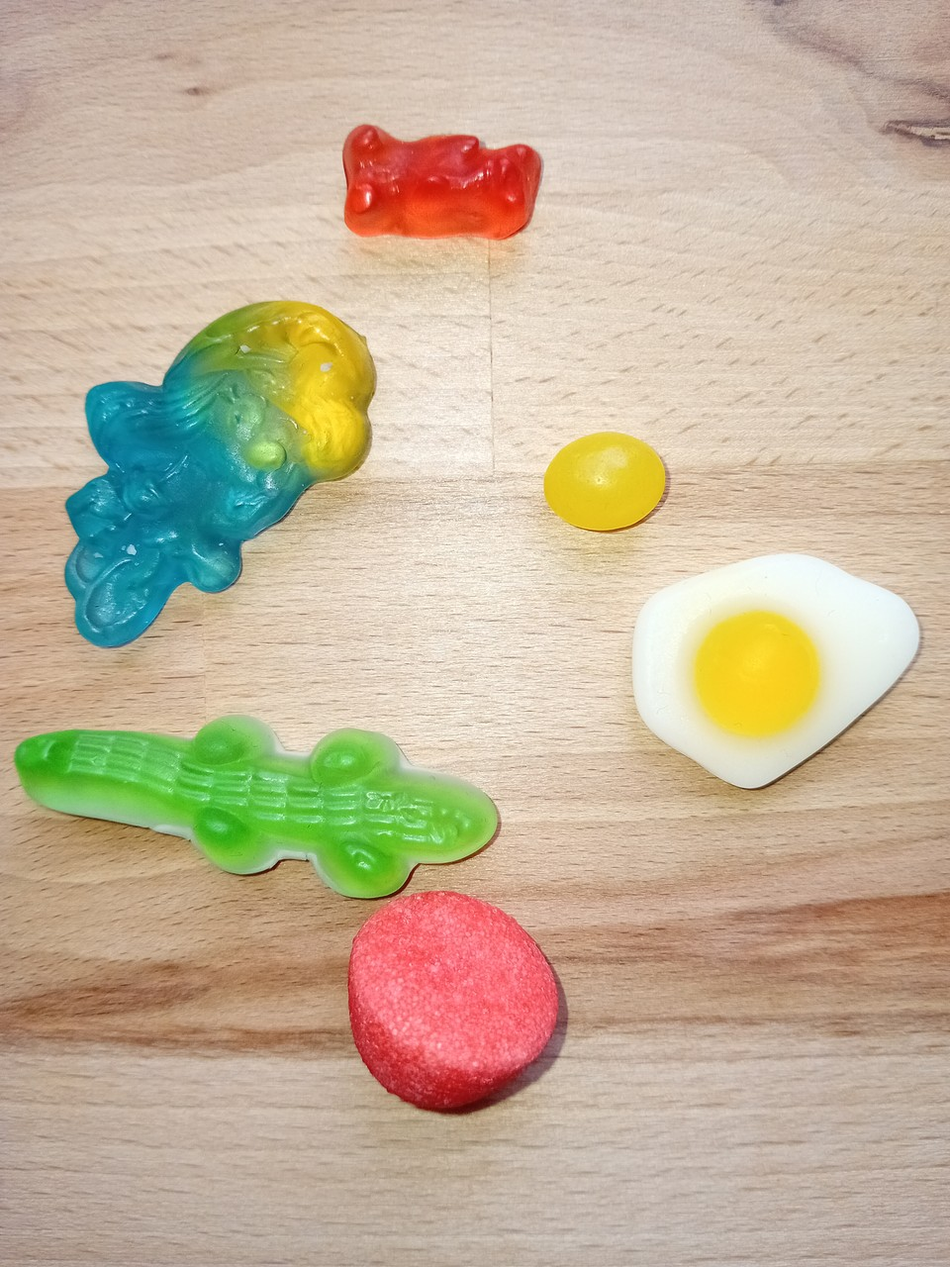crocodile_vert: (14, 707, 509, 903)
dragibus_jaune: (538, 427, 673, 535)
oeuf_oeuf: (628, 549, 928, 797)
ourson_orangeFonce: (327, 117, 551, 248)
schtroumpf_bleu-jaune: (59, 290, 381, 651)
tagada_fraise: (342, 885, 569, 1114)
